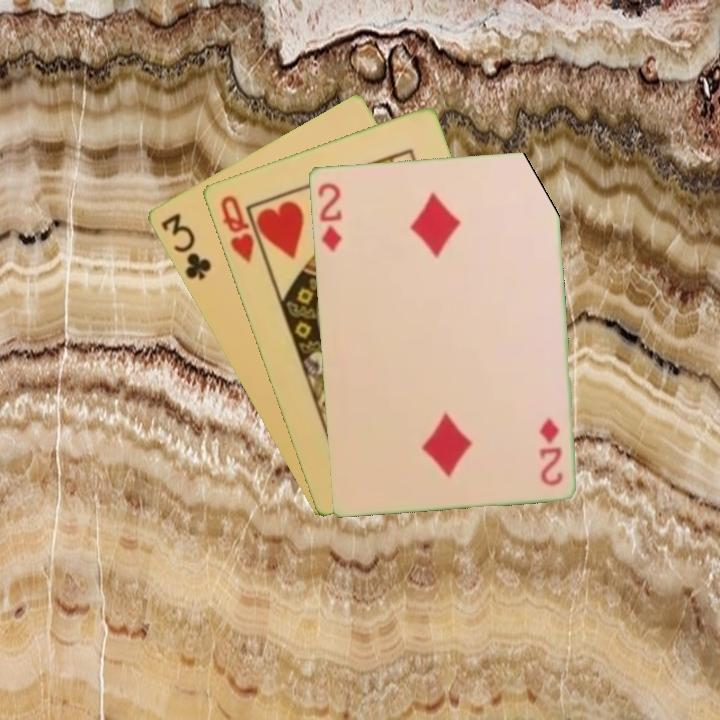2d: (314, 179, 344, 254), (535, 413, 565, 488)
3c: (157, 209, 214, 283)
Qh: (216, 191, 257, 266)
